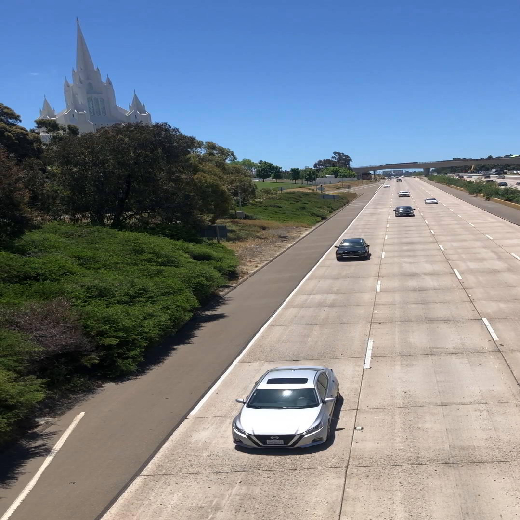license_plate: (262, 438, 286, 446)
vehicle: (228, 362, 342, 451), (331, 236, 372, 262), (390, 204, 419, 217)
